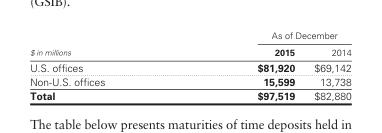table: (29, 29, 350, 101)
table column: (29, 29, 180, 101), (180, 29, 303, 101), (303, 29, 350, 101)
table column header: (29, 29, 350, 58)
table row: (29, 58, 350, 74), (29, 43, 350, 58), (29, 29, 350, 43), (29, 74, 350, 88), (29, 88, 350, 101)
table spanning cell: (29, 29, 180, 58), (180, 29, 350, 43)
